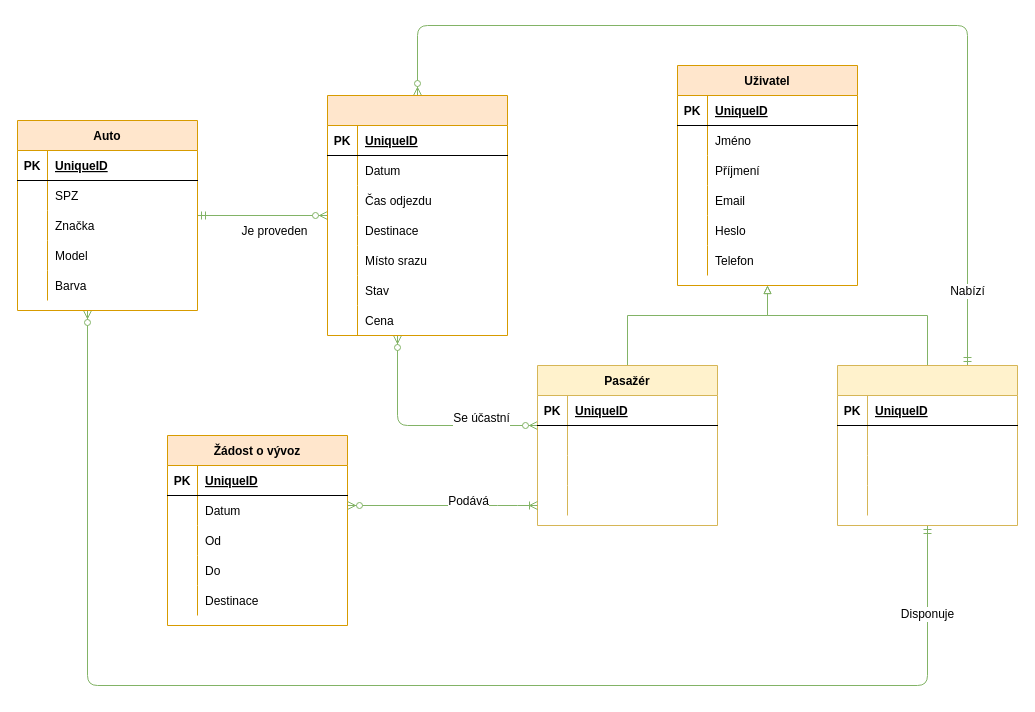
This 1035x712 diagram has some shape labels left out. Here are the shapes that lost their labels. From the top down, the box of each, then its label:
(326, 94, 508, 336): Vývoz
(836, 364, 1018, 526): Vývozce
